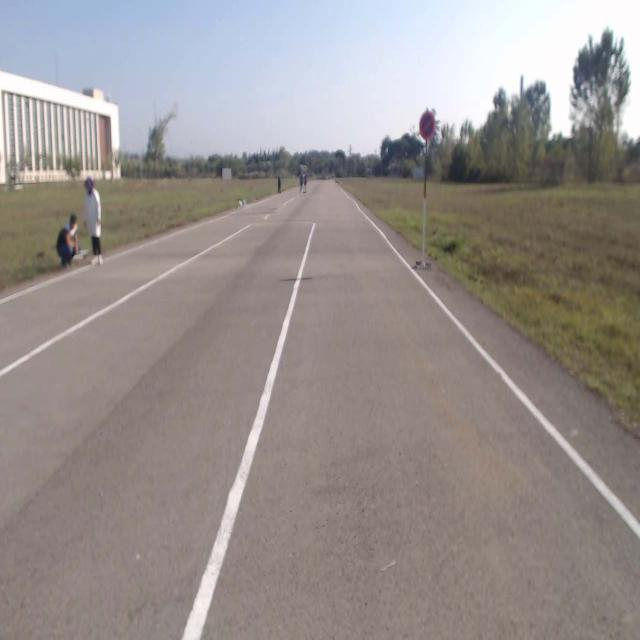parkyasak: (420, 113, 434, 139)
